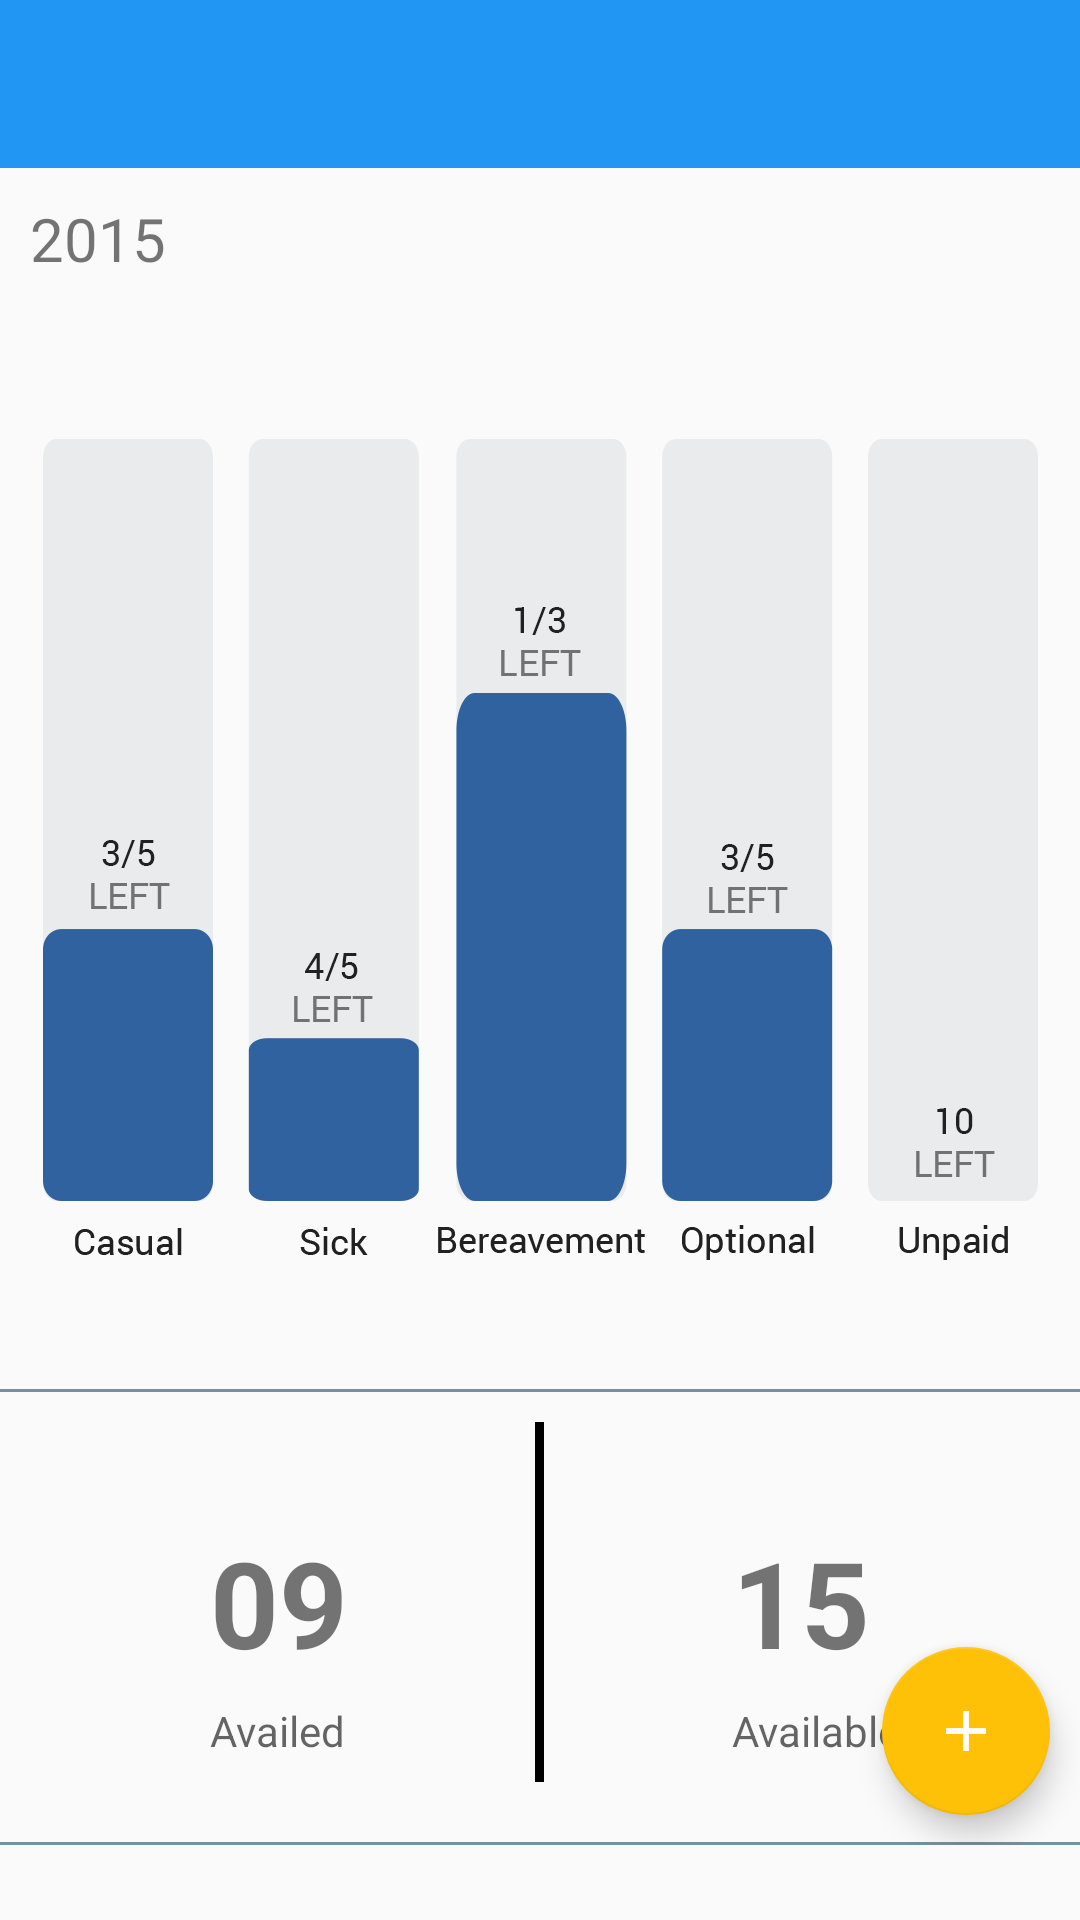

Icon click points for this 1080 × 1920 phone screenshot, format point (x, y):
add: point (966, 1731)
